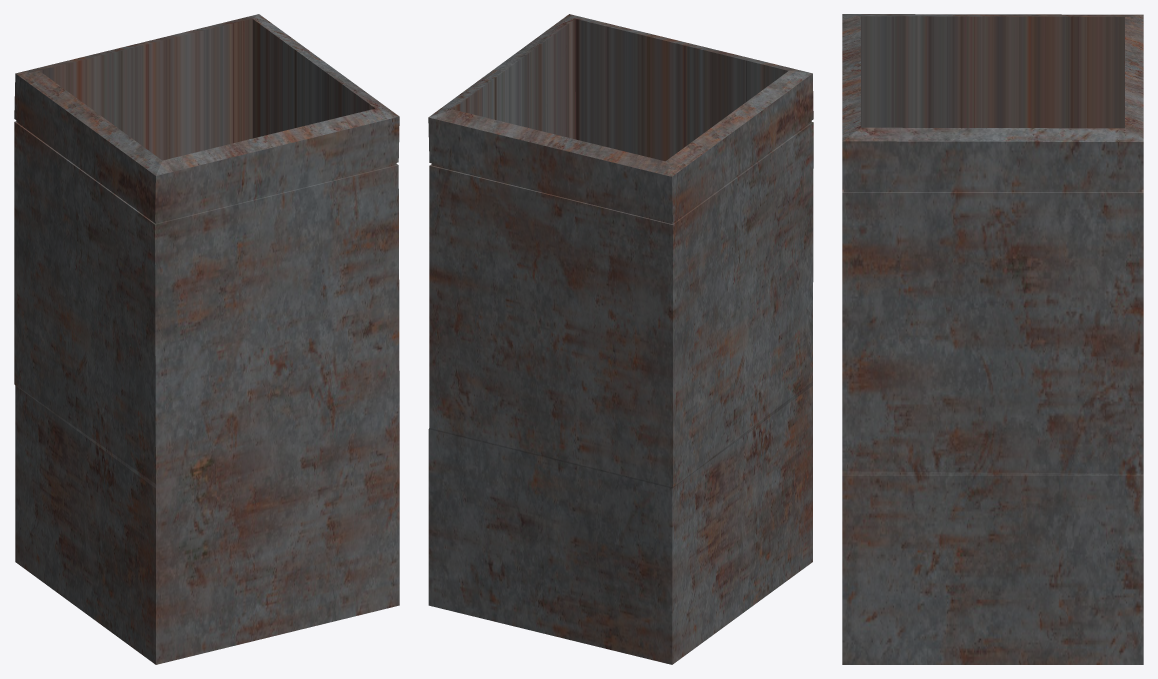
The model's file is trashcan_laser_room1.fbx.
3 renders of one model, left to right at view 1: azimuth 30°, elevation 25°; view 2: azimuth 150°, elevation 25°; view 3: azimuth 270°, elevation 25°, orthographic. The views are drawn at different scales.
Parts seen in each view (by area): view 1: Cube; view 2: Cube; view 3: Cube.
Part boxes in pixels (box(x1,y1,x2,y2)): Cube: box(14, 14, 399, 664); Cube: box(428, 14, 813, 664); Cube: box(842, 14, 1143, 664).
Size of the model in its own units: 201 by 388 by 200.
Materials: 1 (1 with a texture image).
